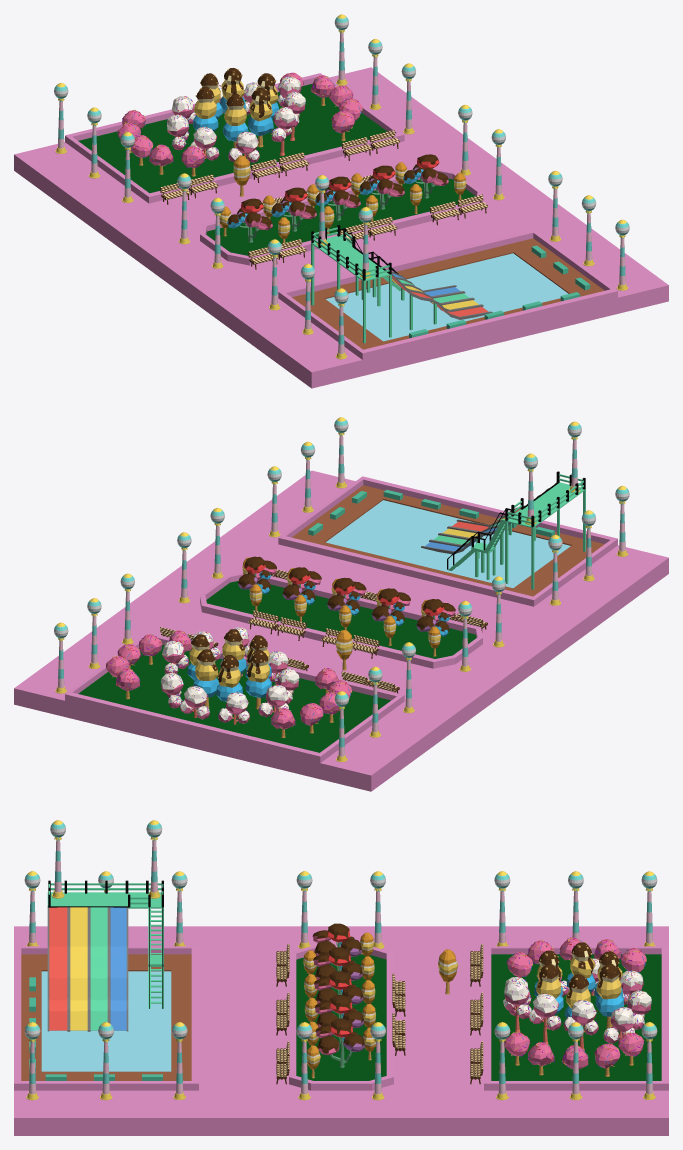
Rendered from D2_park_2.fbx.
The picture shows the model from 3 angles, top to bottom: view 1: azimuth 30°, elevation 25°; view 2: azimuth 150°, elevation 25°; view 3: azimuth 270°, elevation 25°; orthographic projection. The views are drawn at different scales.
Parts seen in each view (by area): view 1: Сфера, Tree_stem_01.063, Cylinder.038, Cylinder.037, Tree_stem_01.037, Tree_stem_01.048, Tree_stem_01.047, Tree_stem_01.036, Tree_stem_01.056, Tree_stem_01.045, Tree_stem_01.055, Tree_stem_01.054; view 2: Сфера, Tree_stem_01.063, Cylinder.048, Tree_stem_01.047, Tree_stem_01.045, Tree_stem_01.046, Cylinder.038, Tree_stem_01.053, Tree_stem_01.052, Tree_stem_01.050, Tree_stem_01.054, Tree_stem_01.037 (+1 smaller); view 3: Сфера, Tree_stem_01.063, Cylinder.037, Cylinder.038, Tree_stem_01.045, Tree_stem_01.049, Cylinder.048, Tree_stem_01.036, Tree_stem_01.047, Tree_stem_01.050, Tree_stem_01.051, Tree_stem_01.037 (+10 smaller).
Boxes of the visible parts, bbox=[...] form: Сфера: bbox=[14, 14, 668, 388]; Tree_stem_01.063: bbox=[219, 154, 466, 243]; Cylinder.038: bbox=[160, 130, 399, 204]; Cylinder.037: bbox=[248, 194, 487, 269]; Tree_stem_01.037: bbox=[248, 87, 273, 147]; Tree_stem_01.048: bbox=[223, 93, 248, 147]; Tree_stem_01.047: bbox=[193, 86, 218, 131]; Tree_stem_01.036: bbox=[271, 107, 295, 155]; Tree_stem_01.056: bbox=[228, 131, 259, 162]; Tree_stem_01.045: bbox=[220, 68, 245, 113]; Tree_stem_01.055: bbox=[190, 127, 219, 160]; Tree_stem_01.054: bbox=[166, 114, 189, 150]; Сфера: bbox=[14, 417, 668, 791]; Tree_stem_01.063: bbox=[238, 556, 455, 656]; Cylinder.048: bbox=[248, 610, 379, 658]; Tree_stem_01.047: bbox=[245, 649, 271, 709]; Tree_stem_01.045: bbox=[193, 649, 219, 708]; Tree_stem_01.046: bbox=[216, 654, 242, 701]; Cylinder.038: bbox=[160, 627, 399, 693]; Tree_stem_01.053: bbox=[218, 692, 249, 724]; Tree_stem_01.052: bbox=[180, 685, 209, 719]; Tree_stem_01.050: bbox=[162, 640, 188, 673]; Tree_stem_01.054: bbox=[258, 685, 288, 716]; Tree_stem_01.037: bbox=[220, 629, 246, 675]; Сфера: bbox=[14, 820, 668, 1135]; Tree_stem_01.063: bbox=[303, 923, 375, 1078]; Cylinder.037: bbox=[276, 944, 289, 1084]; Cylinder.038: bbox=[470, 944, 483, 1084]; Tree_stem_01.045: bbox=[595, 963, 623, 1028]; Tree_stem_01.049: bbox=[529, 993, 561, 1044]; Cylinder.048: bbox=[392, 973, 405, 1055]; Tree_stem_01.036: bbox=[503, 980, 531, 1032]; Tree_stem_01.047: bbox=[567, 942, 595, 992]; Tree_stem_01.050: bbox=[563, 1000, 598, 1050]; Tree_stem_01.051: bbox=[603, 1007, 635, 1043]; Tree_stem_01.037: bbox=[536, 963, 563, 1029].
Size of the model in its own units: 3149 by 1253 by 4545.
Materials: 35 (2 with a texture image).
